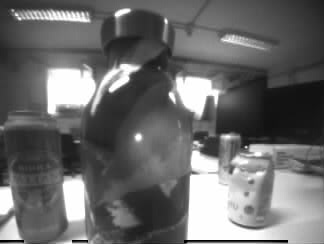Bottle: (77, 6, 193, 244)
Tin can: (2, 108, 70, 244), (224, 148, 276, 230), (216, 132, 240, 183)
